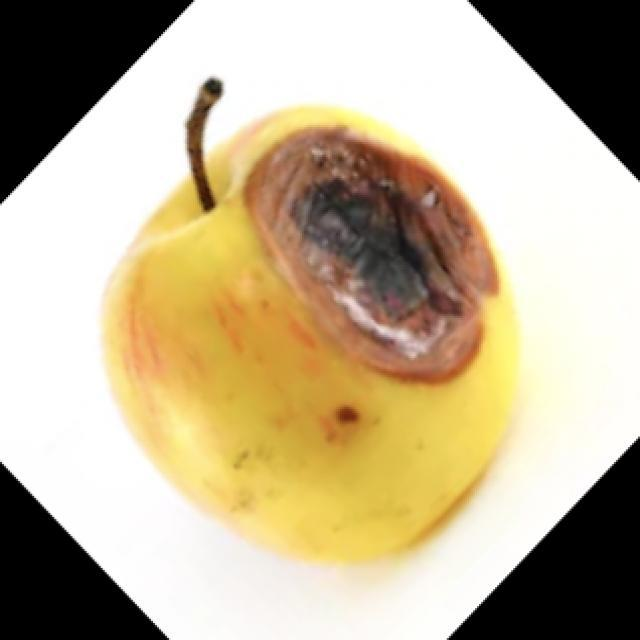Rotten: (155, 120, 512, 545)
